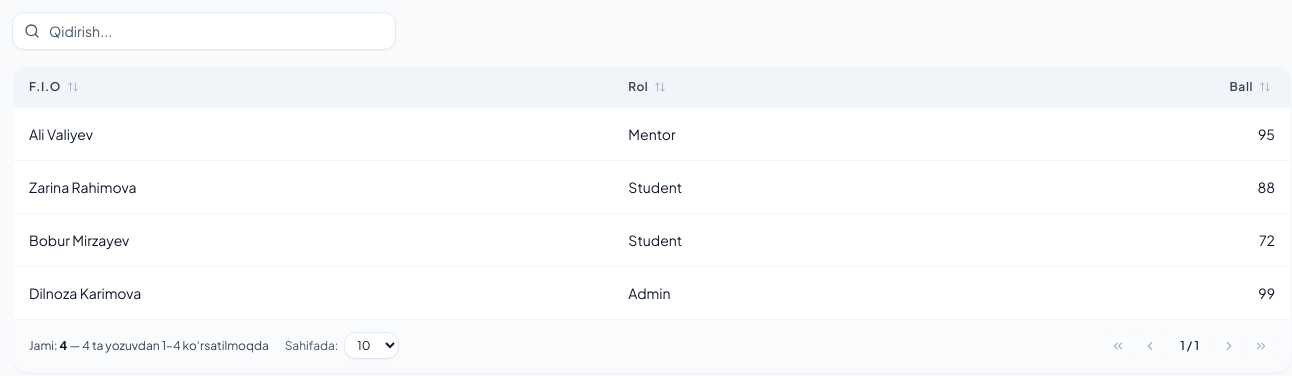
it: DataTable Component › displays empty state when search finds no matches
In the field with placeholder "Qidirish...": (204, 31) left=12, top=12, right=396, bottom=50, type "NonexistentUser123"
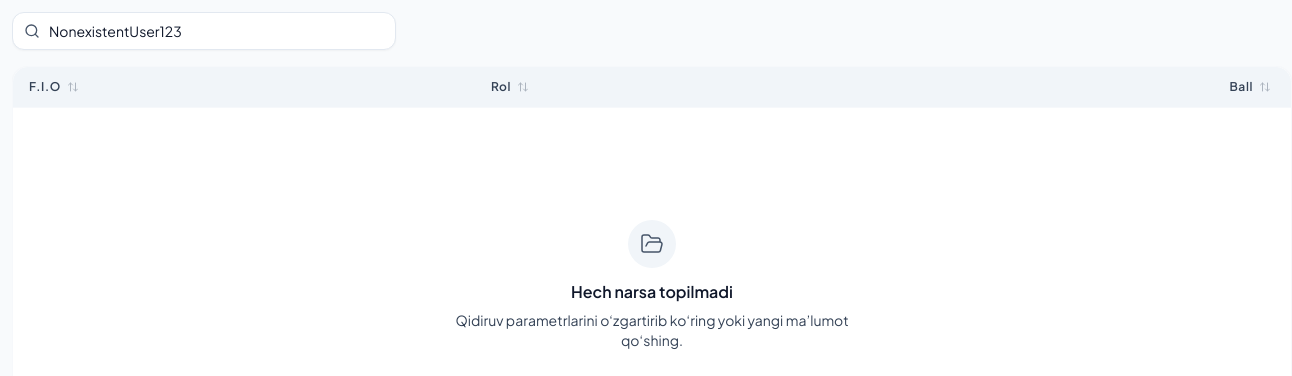
Now the heading "Hech narsa topilmadi" is shown, box left=571, top=280, right=733, bottom=304
